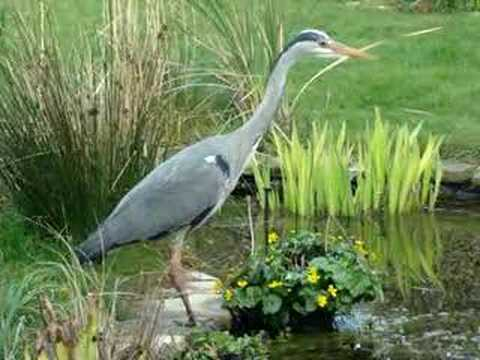heron: (74, 25, 383, 327)
